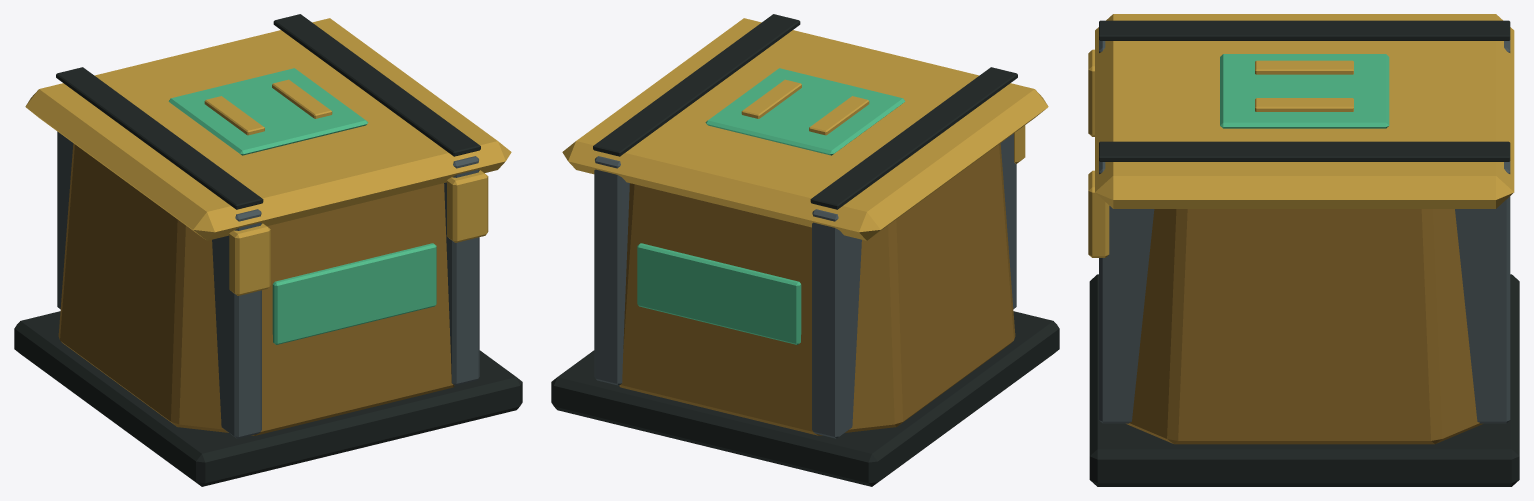
The model's file is prop_cash_crate.glb.
The picture shows the model from 3 angles, left to right: view 1: azimuth 30°, elevation 25°; view 2: azimuth 150°, elevation 25°; view 3: azimuth 270°, elevation 25°; orthographic projection. The views are drawn at different scales.
Parts seen in each view (by area): view 1: Cash crate; view 2: Cash crate; view 3: Cash crate.
Part boxes in pixels (left/top/right/bottom): Cash crate: left=14, top=14, right=522, bottom=486; Cash crate: left=551, top=14, right=1059, bottom=486; Cash crate: left=1088, top=14, right=1519, bottom=486.
Bounding box in the file's own units: 1.65 × 1.34 × 1.66.
